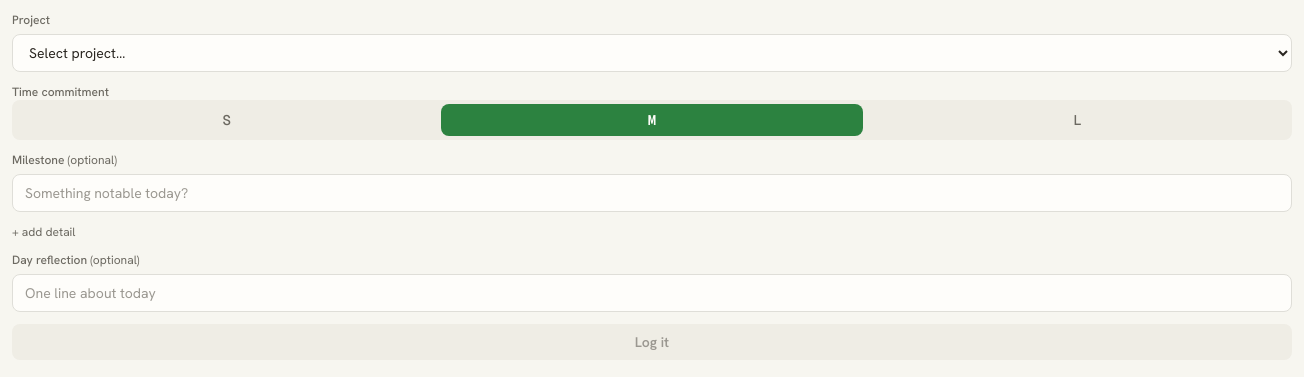
Scenario: quick add › disables submit until a project is picked; the medium default covers time
Expected: the button "Log it" is disabled, [12,324,1292,360]
Select "Work" in the dropdown labelled "Project" at coordinates (652, 53), box [12,34,1292,72]
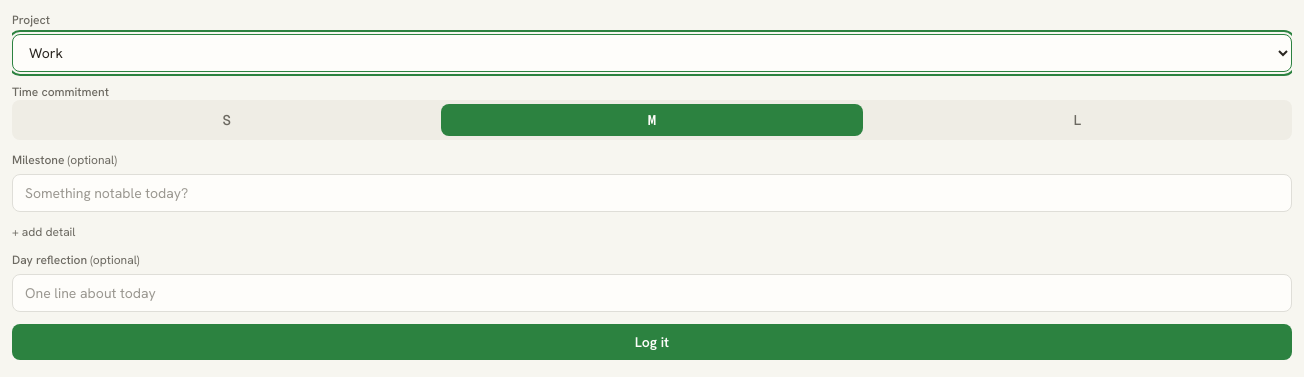
Expected: the button "Log it" is enabled, [12,324,1292,360]
